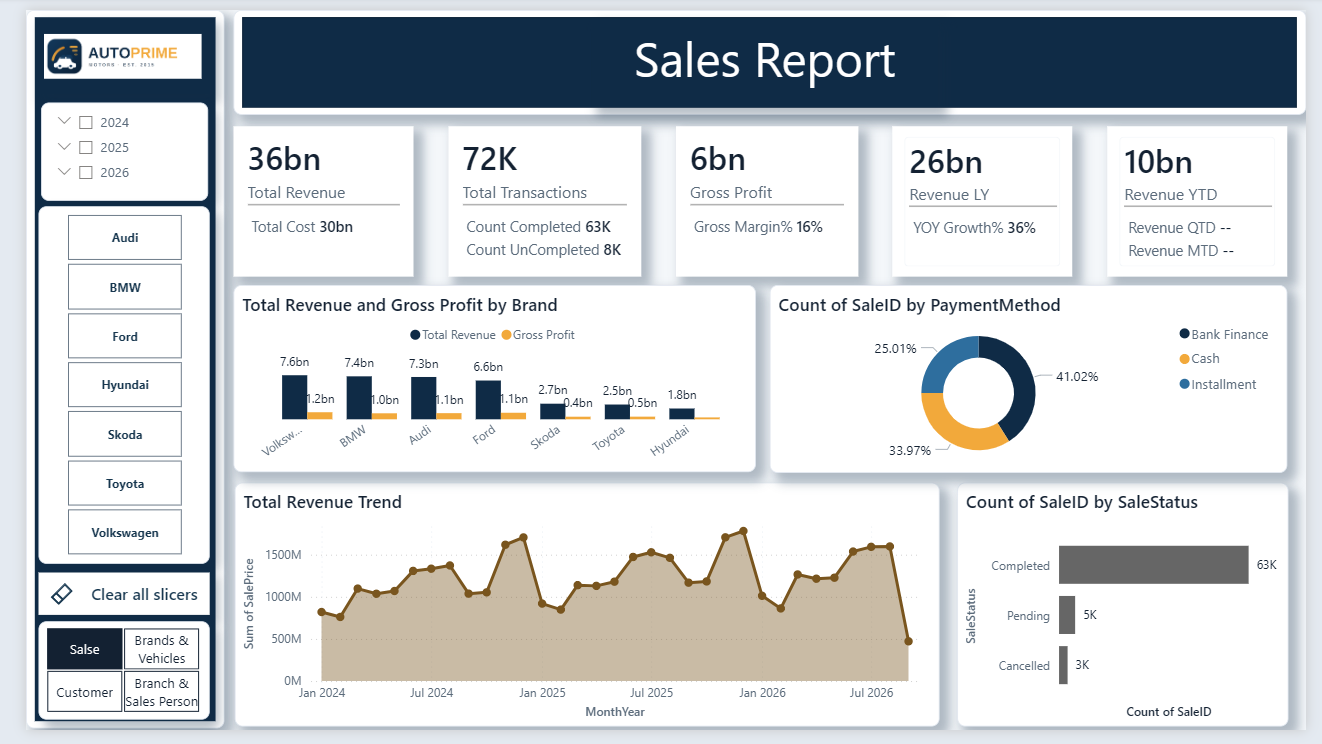

The page's visual inventory and layout, read from the dashboard file:
{"tool":"powerbi","page":{"name":"Salse","canvas":[1280,720],"ordinal":0},"visuals":[{"type":"shape","box":[0,0,198.8,718.8],"z":0},{"type":"shape","box":[207.5,0,1072.5,105],"z":1000},{"type":"image","box":[10,8.8,173.8,75],"z":2000},{"type":"textbox","box":[566.7,8.3,345.2,88.1],"z":3000},{"type":"lineChart","title":"Total Revenue Trend","fields":{"Category":["Dim_Date.MonthYear"],"Y":["Sum(Fact_Sales.SalePrice)"]},"box":[208.8,472.5,705,243.8],"z":4000},{"type":"cardVisual","fields":{"Data":["Measure.Total Transactions"]},"box":[422.1,116.2,192.9,150],"z":5000},{"type":"cardVisual","fields":{"Data":["Measure.Total Revenue"]},"box":[207.5,116.2,180,150],"z":6000},{"type":"cardVisual","fields":{"Data":["Measure.Gross Profit"]},"box":[649.6,116.2,182.5,150],"z":7000},{"type":"cardVisual","fields":{"Data":["Measure.Revenue YTD"]},"box":[1081.2,116.2,180,150],"z":8000},{"type":"cardVisual","fields":{"Data":["Measure.Revenue LY"]},"box":[866.7,116.2,180,150],"z":9000},{"type":"barChart","fields":{"Category":["Fact_Sales.SaleStatus"],"Y":["CountNonNull(Fact_Sales.SaleID)"]},"box":[931.3,472.3,331,244],"z":10000},{"type":"clusteredColumnChart","fields":{"Category":["Dim_Brand.Brand"],"Y":["Measure.Total Revenue","Measure.Gross Profit"]},"box":[207.5,275,522.5,187.5],"z":11000},{"type":"donutChart","fields":{"Category":["Fact_Sales.PaymentMethod"],"Y":["CountNonNull(Fact_Sales.SaleID)"]},"box":[744.1,275.2,517.9,188.1],"z":12000},{"type":"slicer","fields":{"Values":["Dim_Date.Year","Dim_Date.MonthName"]},"box":[15,92.5,167.5,98.8],"z":13000},{"type":"slicer","fields":{"Values":["Dim_Brand.Brand"]},"box":[12.5,196.2,171.2,357.5],"z":14000},{"type":"actionButton","box":[12.5,562.5,171.2,42.5],"z":15000},{"type":"pageNavigator","box":[12.5,611.2,171.2,98.8],"z":16000}]}

Visuals, with their boxes in screenshot pixels (x1, y1, x2, y2), scaled from the page's 1280x720 canvas onto the 1322x744 screenshot:
shape: x1=0, y1=0, x2=205, y2=743
shape: x1=214, y1=0, x2=1321, y2=109
image: x1=10, y1=9, x2=190, y2=87
textbox: x1=585, y1=9, x2=942, y2=100
"Total Revenue Trend" lineChart: x1=216, y1=488, x2=944, y2=740
cardVisual - Measure.Total Transactions: x1=436, y1=120, x2=635, y2=275
cardVisual - Measure.Total Revenue: x1=214, y1=120, x2=400, y2=275
cardVisual - Measure.Gross Profit: x1=671, y1=120, x2=859, y2=275
cardVisual - Measure.Revenue YTD: x1=1117, y1=120, x2=1303, y2=275
cardVisual - Measure.Revenue LY: x1=895, y1=120, x2=1081, y2=275
barChart - Fact_Sales.SaleStatus x CountNonNull(Fact_Sales.SaleID): x1=962, y1=488, x2=1304, y2=740
clusteredColumnChart - Dim_Brand.Brand x Measure.Total Revenue: x1=214, y1=284, x2=754, y2=478
donutChart - Fact_Sales.PaymentMethod x CountNonNull(Fact_Sales.SaleID): x1=769, y1=284, x2=1303, y2=479
slicer - Dim_Date.Year x Dim_Date.MonthName: x1=15, y1=96, x2=188, y2=198
slicer - Dim_Brand.Brand: x1=13, y1=203, x2=190, y2=572
actionButton: x1=13, y1=581, x2=190, y2=625
pageNavigator: x1=13, y1=632, x2=190, y2=734
